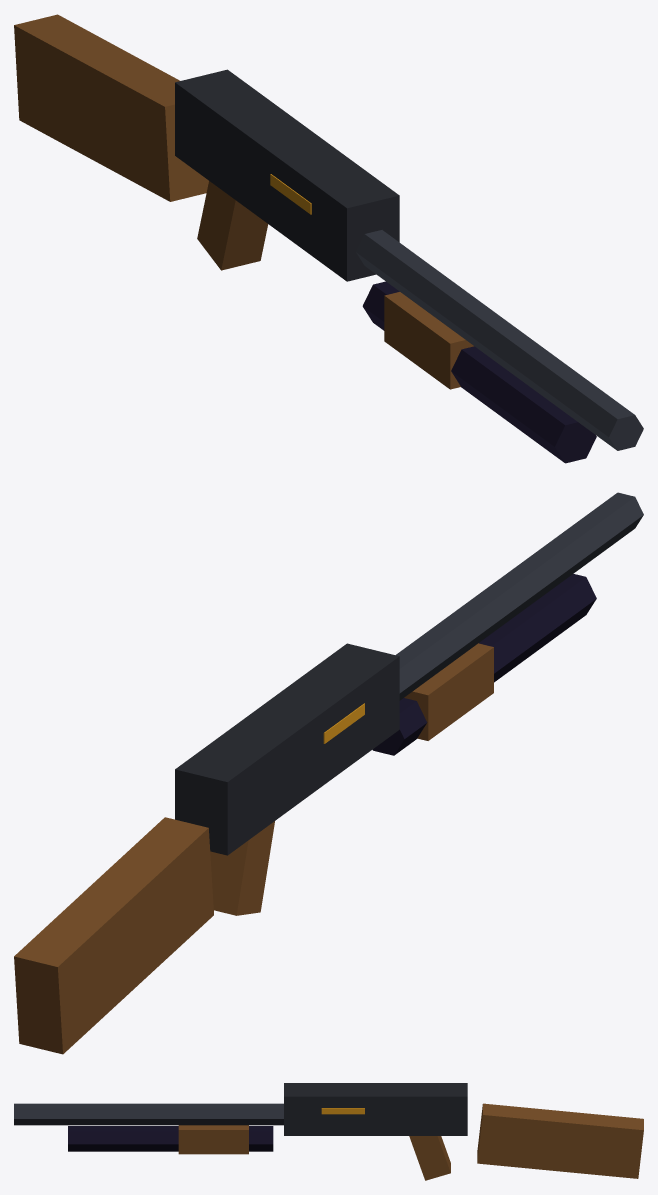
Rendered from scatter12.glb.
The picture shows the model from 3 angles, top to bottom: view 1: azimuth 30°, elevation 25°; view 2: azimuth 150°, elevation 25°; view 3: azimuth 270°, elevation 25°; orthographic projection. The views are drawn at different scales.
Visible parts, largest first — view 1: model; view 2: model; view 3: model.
Boxes of the visible parts, x1,y1,x2,y2 form: model: (14,14,643,463); model: (14,492,643,1054); model: (14,1083,643,1180).
Size of the model in its own units: 0.062 by 0.1753 by 1.17.
